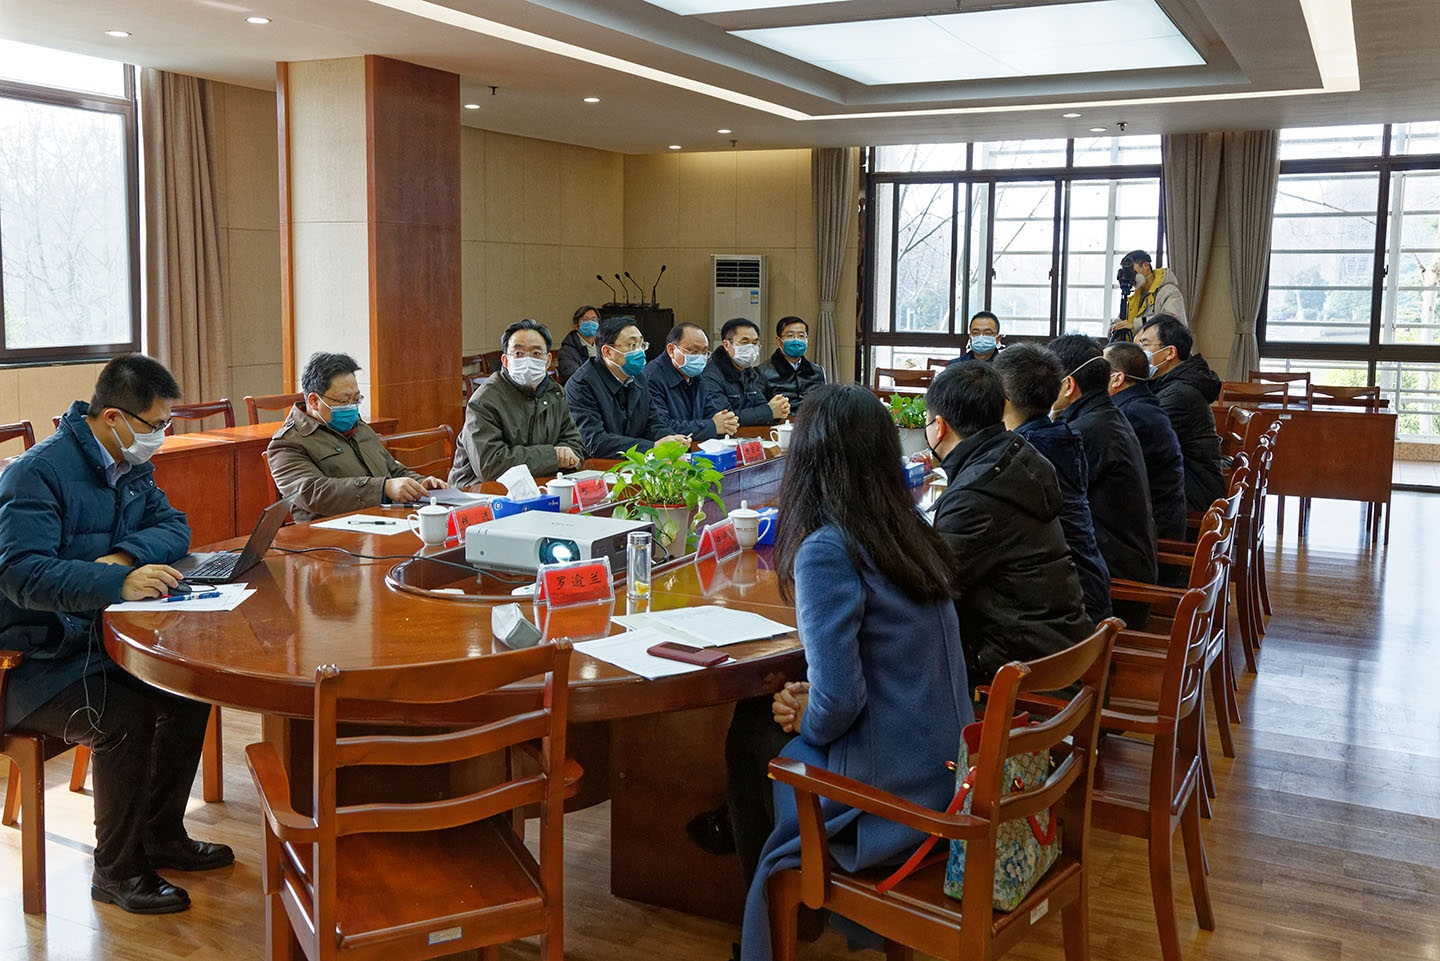correctlyWear: (100, 391, 174, 465), (305, 380, 365, 434), (499, 341, 553, 389), (600, 332, 649, 378), (1135, 331, 1177, 378), (666, 339, 712, 376), (722, 331, 763, 368), (969, 320, 998, 358), (777, 324, 808, 359), (575, 311, 600, 339), (1130, 262, 1152, 290)
